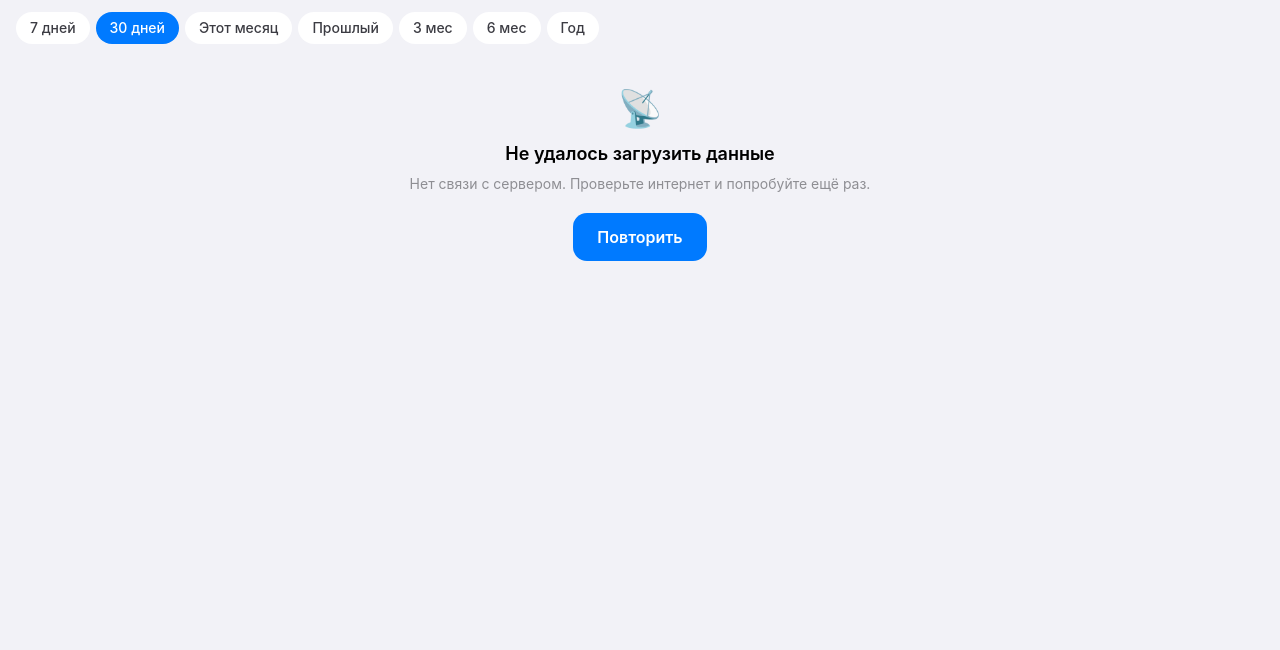
Test: Ошибки загрузки на экранах › Аналитика: ошибка с «Повторить», после возврата сети данные загружаются
Check: the text "Не удалось загрузить данные" is shown, box [505, 143, 775, 164]
Check: the text "Нет связи с сервером" is shown, box [410, 175, 870, 192]
Click the button "Повторить".
click(640, 237)  # box [573, 213, 707, 261]
(page scrolled)
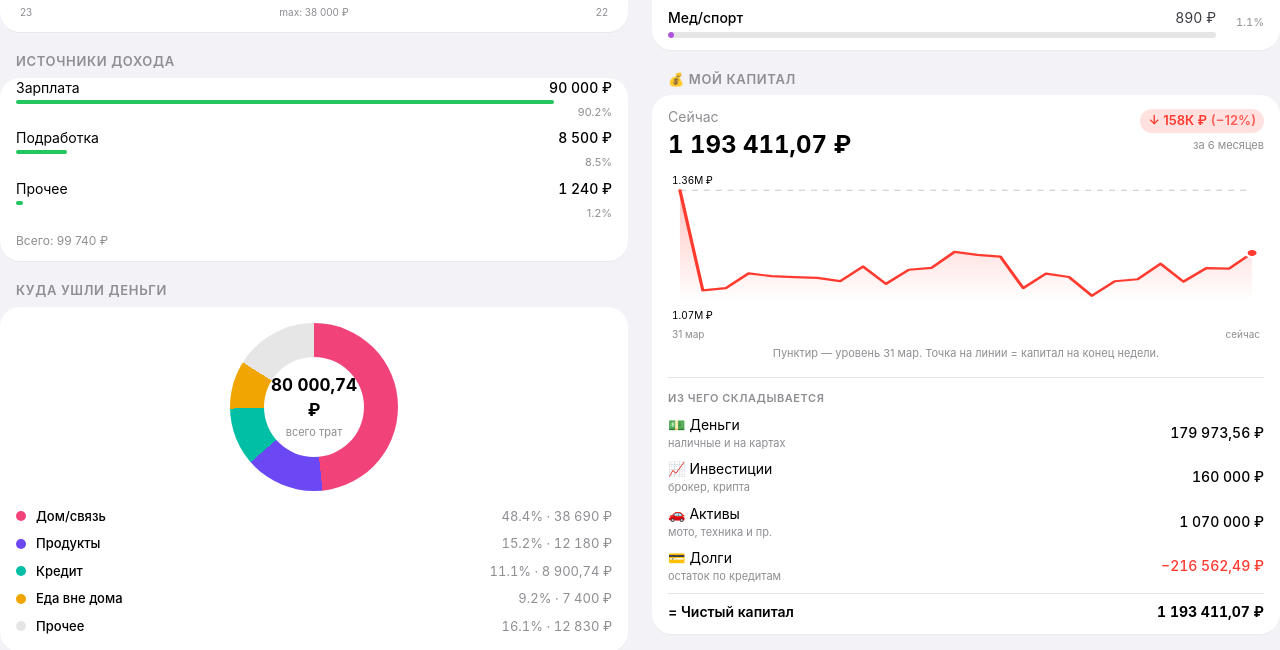
Check: the heading "Куда ушли деньги" is shown, box [16, 282, 167, 298]
Check: the text "Не удалось загрузить данные" is gone
